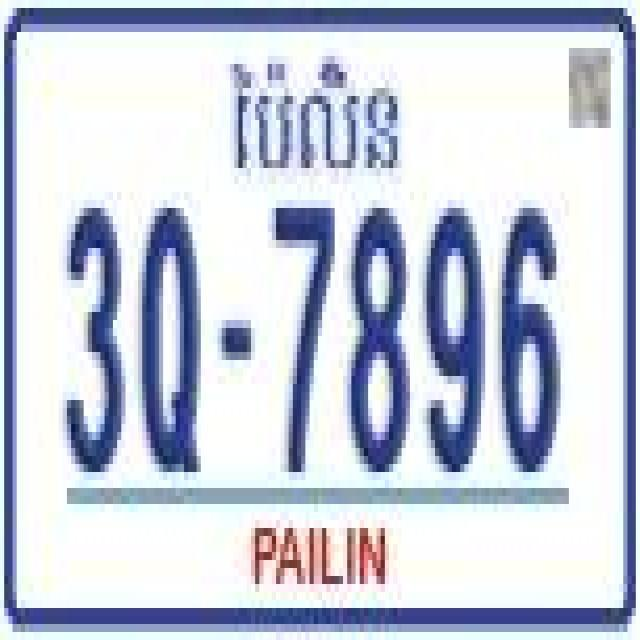Pailin: (226, 48, 402, 180)
